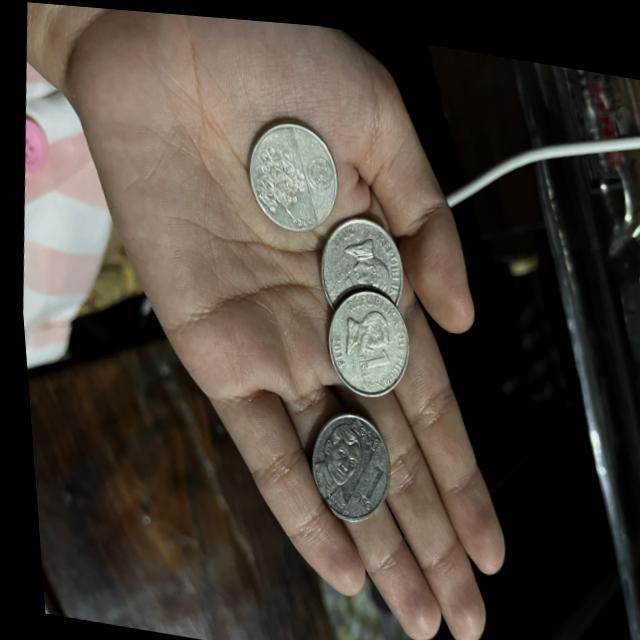1_New_Back: (244, 120, 310, 218)
1_New_Front: (339, 452, 382, 516)
1_Old_Front: (323, 252, 367, 303), (347, 338, 391, 376)
